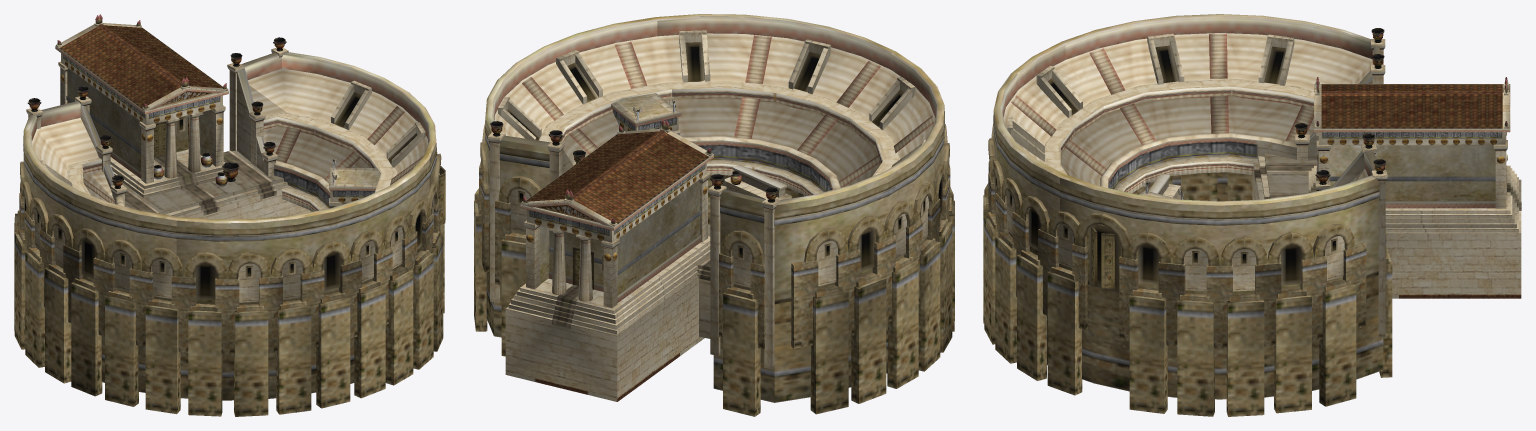
The model's file is s_spartans_theater.glb.
3 renders of one model, left to right at view 1: azimuth 30°, elevation 25°; view 2: azimuth 150°, elevation 25°; view 3: azimuth 270°, elevation 25°, orthographic. The views are drawn at different scales.
Parts seen in each view (by area): view 1: s_spartans_theater_part0; view 2: s_spartans_theater_part0; view 3: s_spartans_theater_part0.
Part boxes in pixels (box(x1,y1,x2,y2)): s_spartans_theater_part0: box(14, 14, 445, 416); s_spartans_theater_part0: box(474, 14, 954, 416); s_spartans_theater_part0: box(983, 14, 1521, 416).
Size of the model in its own units: 5.26 by 2.89 by 6.
Materials: 1 (1 with a texture image).
